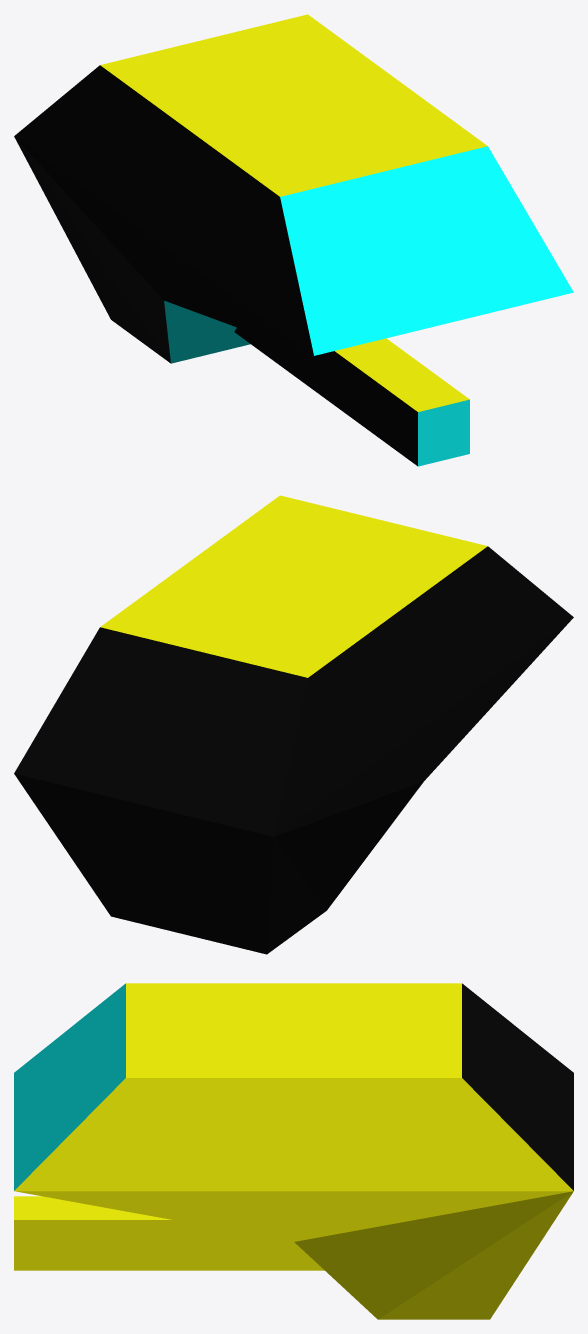
The model's file is heavytank.obj.
The picture shows the model from 3 angles, top to bottom: view 1: azimuth 30°, elevation 25°; view 2: azimuth 150°, elevation 25°; view 3: azimuth 270°, elevation 25°; orthographic projection. The views are drawn at different scales.
Parts seen in each view (by area): view 1: Cube; view 2: Cube; view 3: Cube.
Part boxes in pixels (box(x1,y1,x2,y2)): Cube: box(14, 14, 573, 466); Cube: box(14, 495, 573, 954); Cube: box(14, 983, 573, 1319).
Bounding box in the file's own units: 1 × 1 × 2.
Materials: 1 (1 with a texture image).
